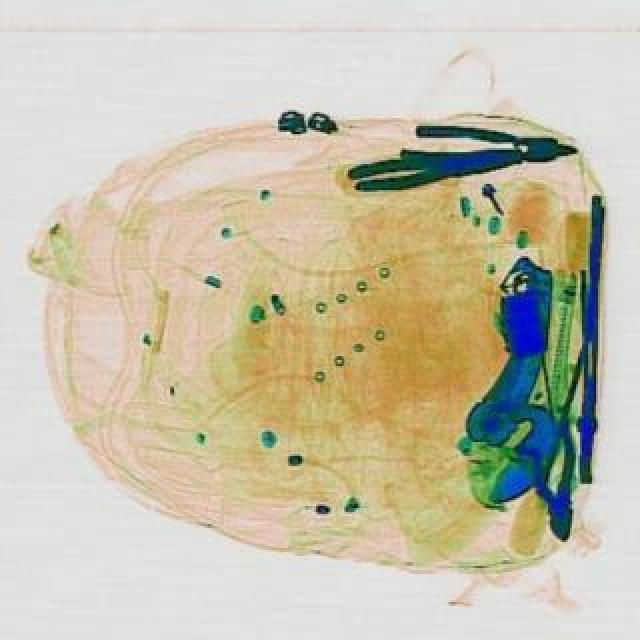wrench: (510, 418, 592, 544), (346, 138, 522, 194)
